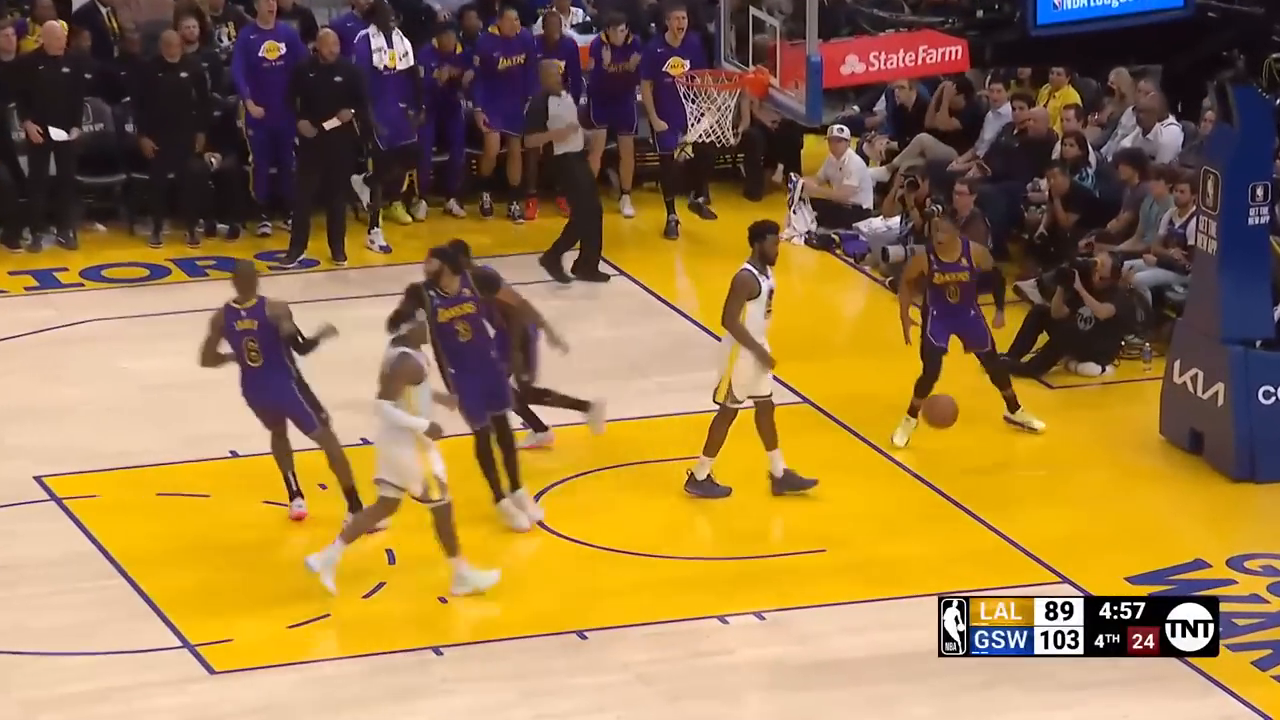ball: (917, 386, 963, 436)
net: (668, 63, 745, 152)
